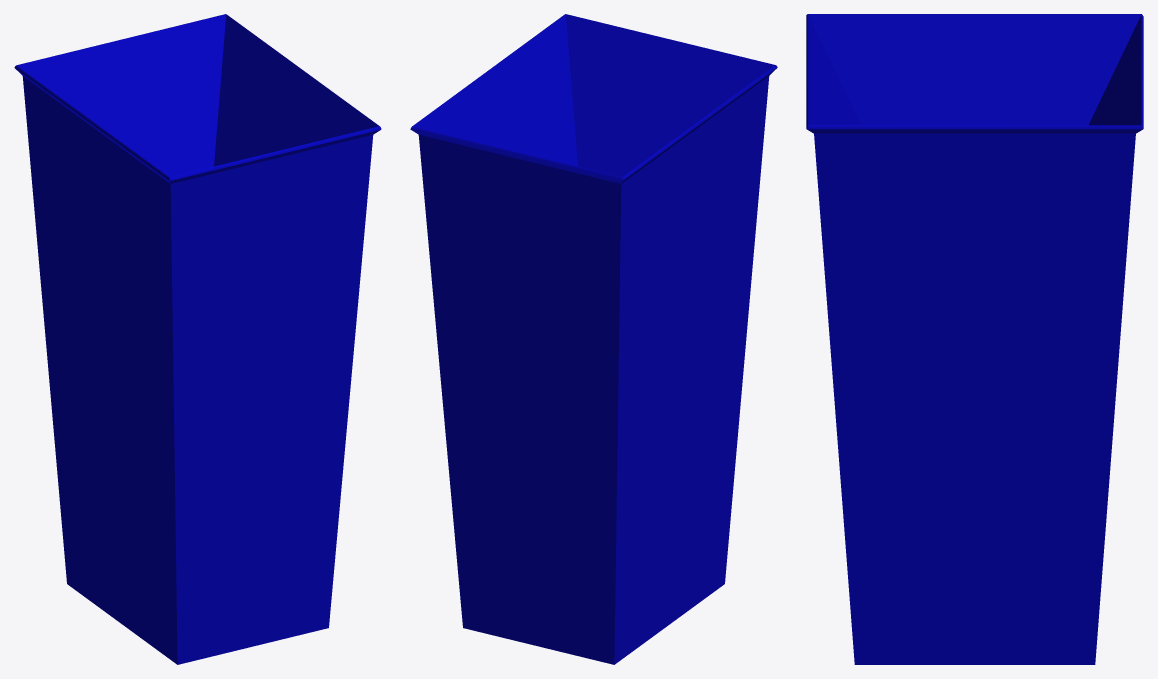
The model's file is bucket.dae.
3 views of the same model, side by side, from view 1: azimuth 30°, elevation 25°; view 2: azimuth 150°, elevation 25°; view 3: azimuth 270°, elevation 25° (orthographic). The views are drawn at different scales.
Visible parts, largest first — view 1: bucket; view 2: bucket; view 3: bucket.
Part boxes in pixels (x1,y1,x2,y2): bucket: [14, 14, 381, 664]; bucket: [410, 14, 777, 664]; bucket: [806, 14, 1143, 664].
Bounding box in the file's own units: 1.19 × 2.73 × 1.5.
